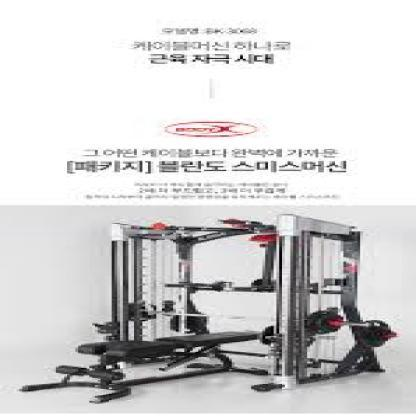smith machine: (22, 215, 398, 405)
